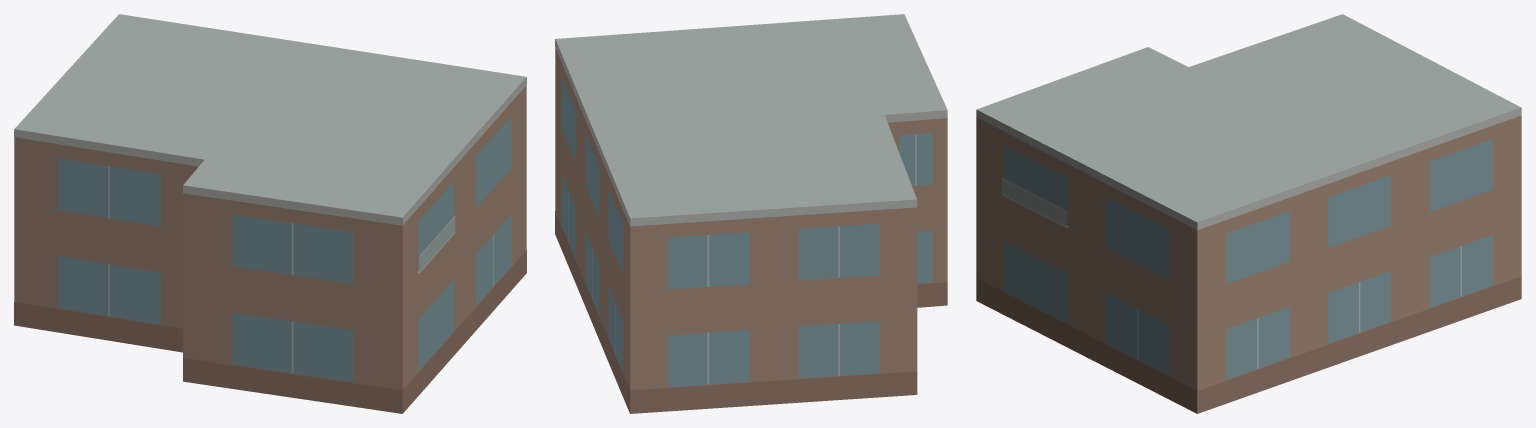
Rendered from survey-upis-32917399.glb.
The picture shows the model from 3 angles, left to right: view 1: azimuth 30°, elevation 25°; view 2: azimuth 150°, elevation 25°; view 3: azimuth 270°, elevation 25°; orthographic projection. The views are drawn at different scales.
Visible parts, largest first — view 1: survey-upis-32917399.tmp; view 2: survey-upis-32917399.tmp; view 3: survey-upis-32917399.tmp.
Part boxes in pixels (<box>): survey-upis-32917399.tmp: <box>14,14,526,413</box>; survey-upis-32917399.tmp: <box>555,14,947,413</box>; survey-upis-32917399.tmp: <box>976,14,1521,413</box>.
Bounding box in the file's own units: 13.8 × 5.9 × 15.24.
